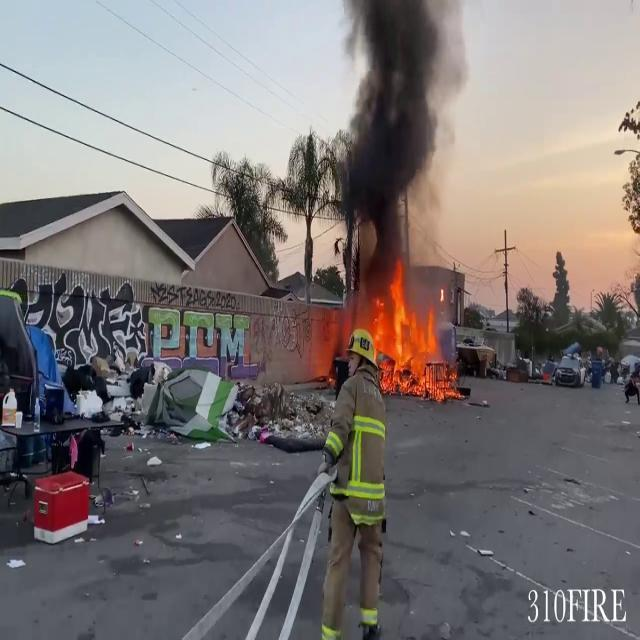Fire: (346, 263, 454, 397)
Smoke: (336, 0, 466, 262)
